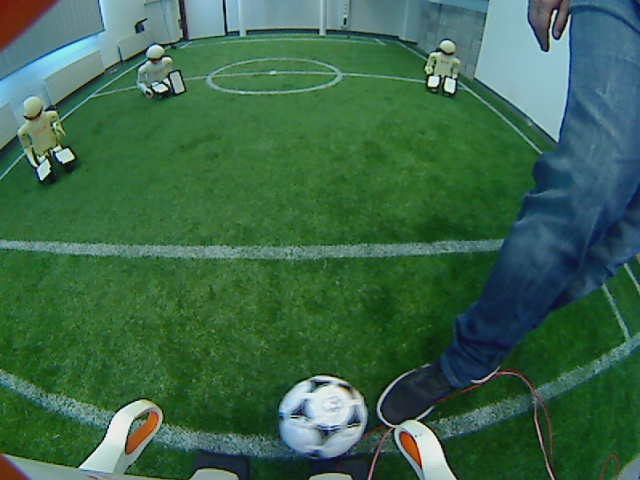ball: (274, 373, 368, 463)
robot: (15, 95, 82, 184), (133, 41, 188, 102), (422, 34, 463, 98)
